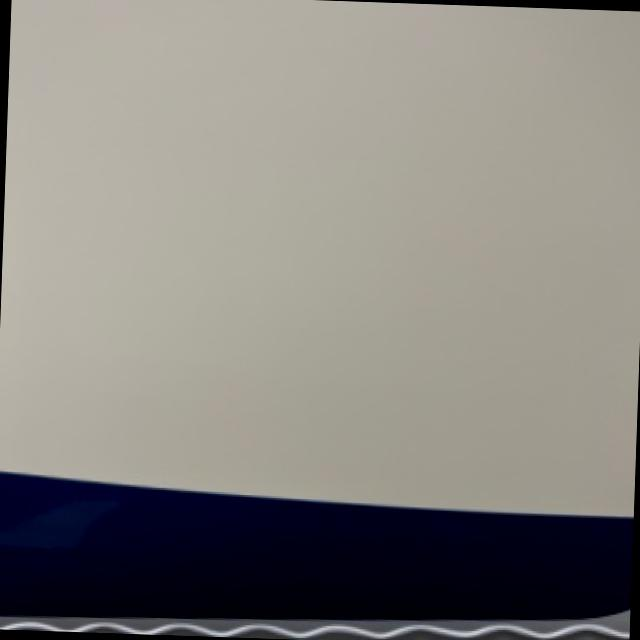healthy: (0, 469, 633, 640)
